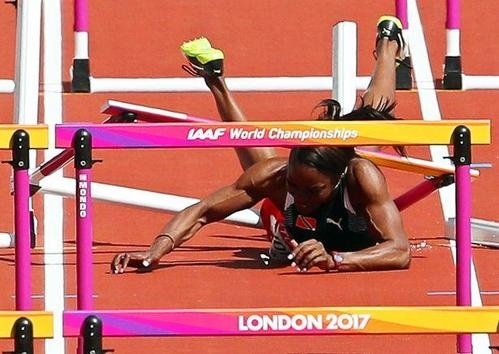falling: (112, 12, 437, 297)
